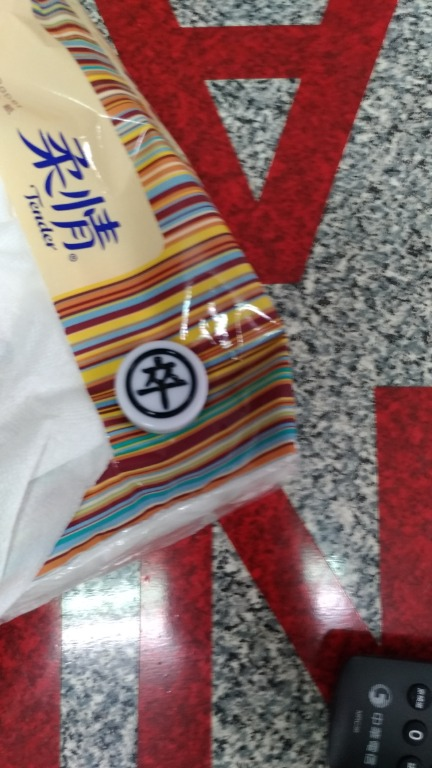b-pawn: (105, 333, 237, 434)
